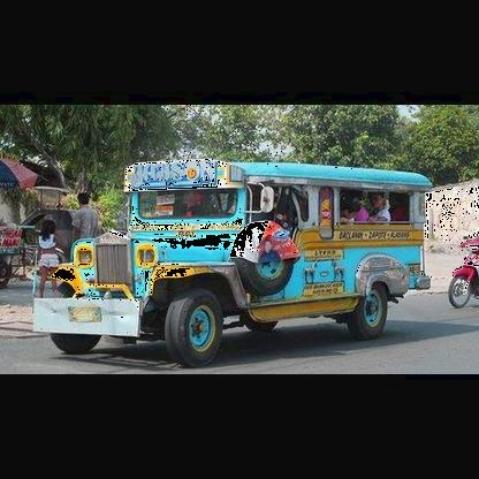jeepney: (34, 157, 435, 367)
